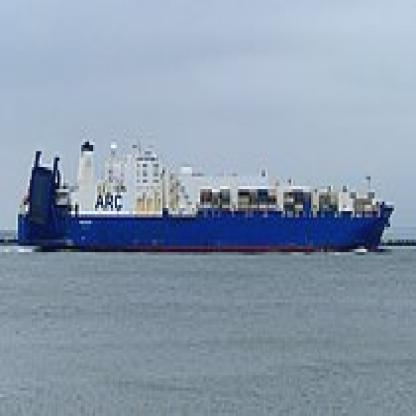Tanker: (10, 146, 406, 268)
